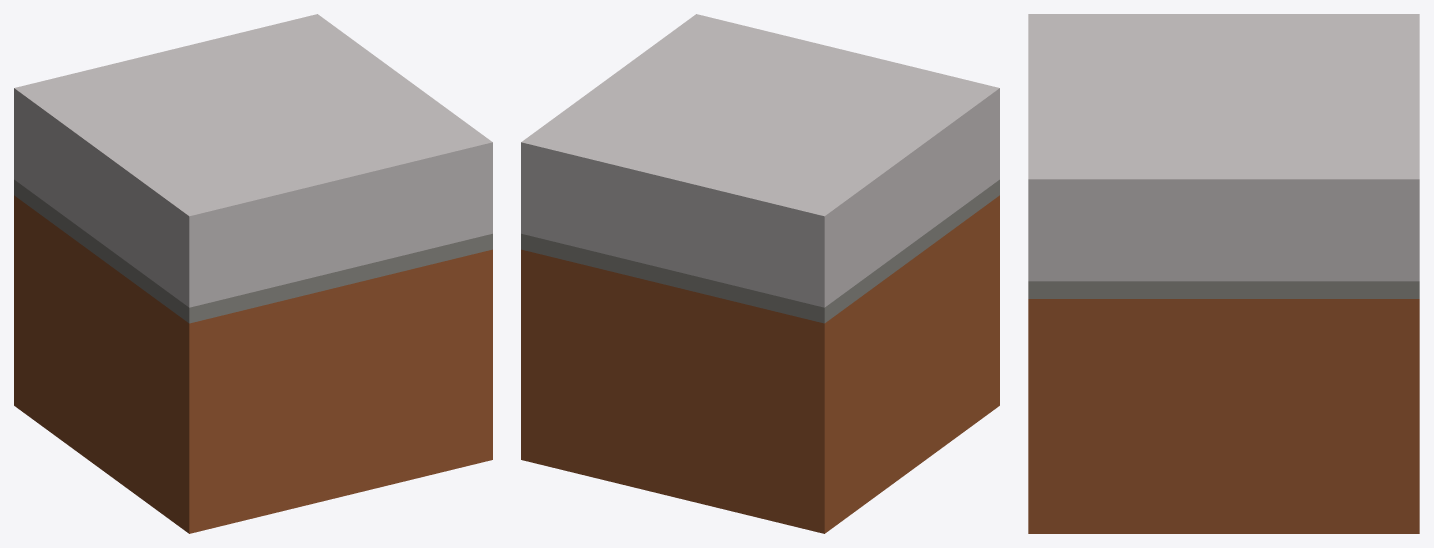
Rendered from pavingtile2.fbx.
3 renders of one model, left to right at view 1: azimuth 30°, elevation 25°; view 2: azimuth 150°, elevation 25°; view 3: azimuth 270°, elevation 25°, orthographic. The views are drawn at different scales.
Visible parts, largest first — view 1: Cube, Cube.001, Cube.002; view 2: Cube, Cube.001, Cube.002; view 3: Cube.001, Cube, Cube.002.
Boxes of the visible parts, x1=… form: Cube: x1=14, y1=195, x2=492, y2=533; Cube.001: x1=14, y1=14, x2=492, y2=307; Cube.002: x1=14, y1=179, x2=492, y2=323; Cube: x1=521, y1=195, x2=999, y2=533; Cube.001: x1=521, y1=14, x2=999, y2=307; Cube.002: x1=521, y1=179, x2=999, y2=323; Cube.001: x1=1028, y1=14, x2=1419, y2=281; Cube: x1=1028, y1=299, x2=1419, y2=533; Cube.002: x1=1028, y1=281, x2=1419, y2=298.
Bounding box in the file's own units: 50 × 50 × 50.
